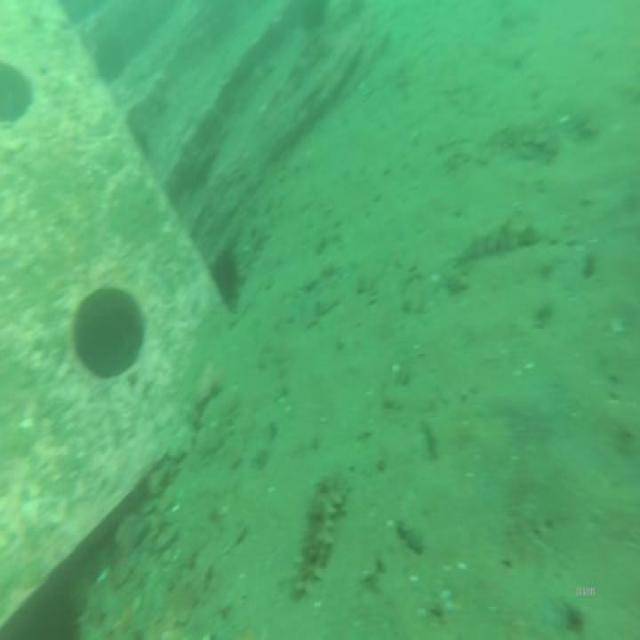echinus: (204, 239, 247, 311)
holothurian: (298, 468, 348, 589), (460, 207, 540, 261)
